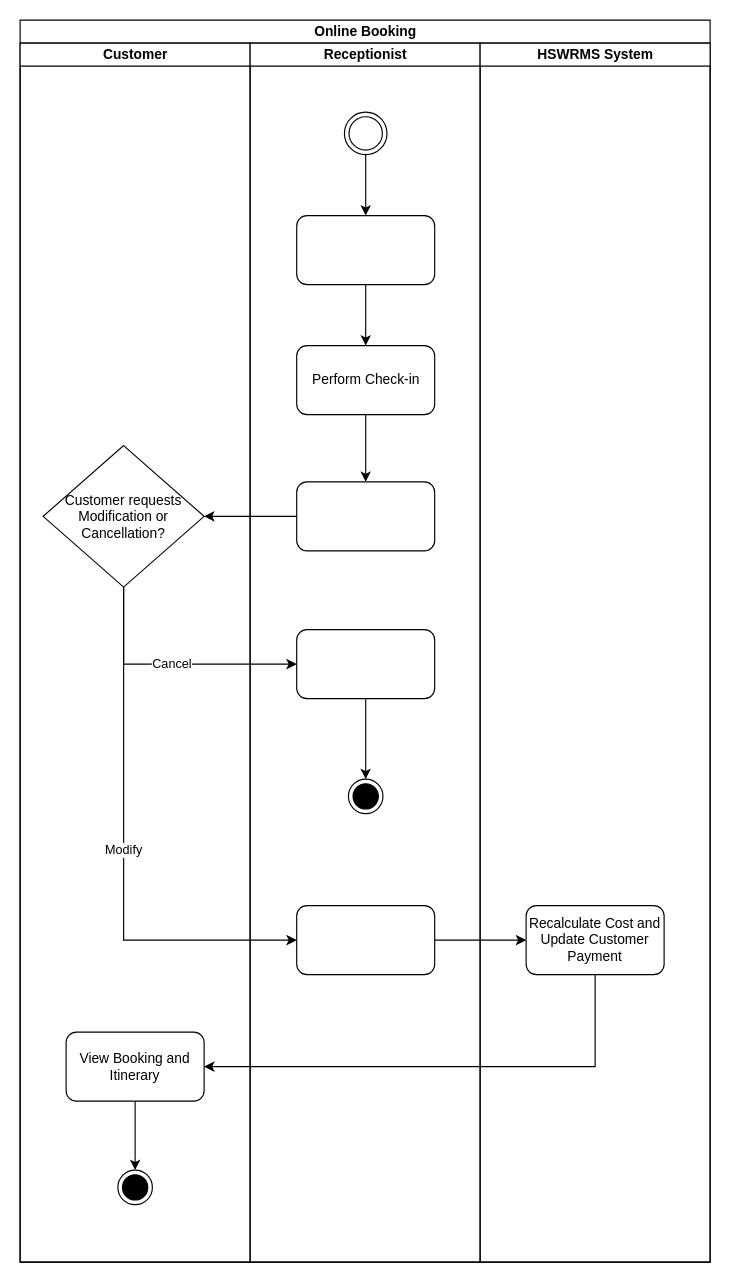
Some shapes in this 730 by 1282 pixel diagram are drawn without their labels. The centre of each missing label's shape, as x and y in pixels:
"Check Service Availability" belongs at (x=365, y=939).
"Create Walk-in Booking" belongs at (x=365, y=249).
"Manage Villa Status" belongs at (x=365, y=516).
"Process Refund and Update Folio" belongs at (x=365, y=663).
